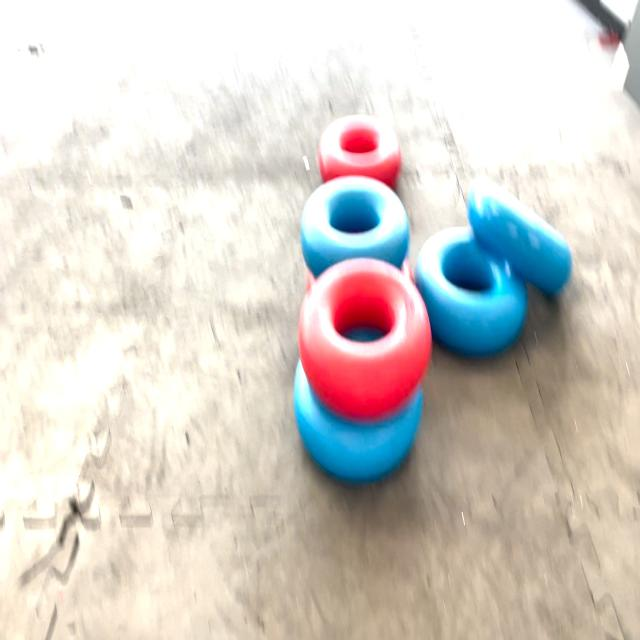Blue-Ring: (294, 360, 422, 482), (415, 227, 528, 356), (468, 176, 572, 296), (301, 176, 410, 278)
Red-Ring: (298, 258, 431, 422), (318, 116, 401, 187)
